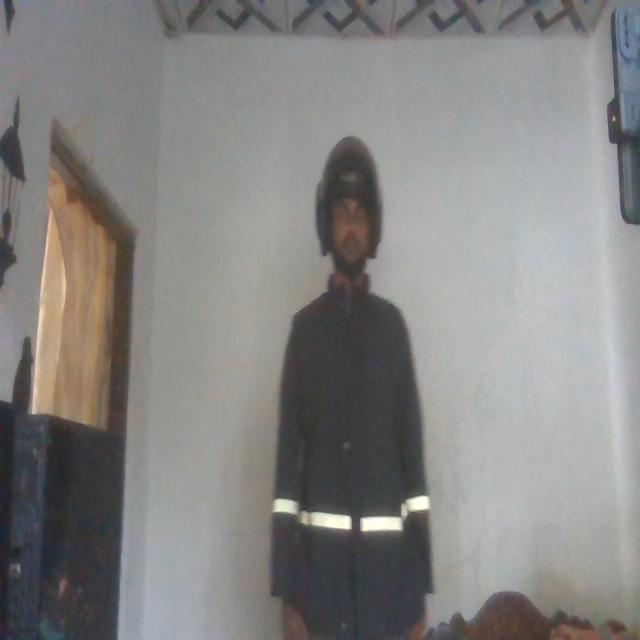Helmet_Wearer: (314, 130, 390, 289)
Jacket_Wearer: (277, 274, 430, 640)
Person: (265, 147, 422, 640)
